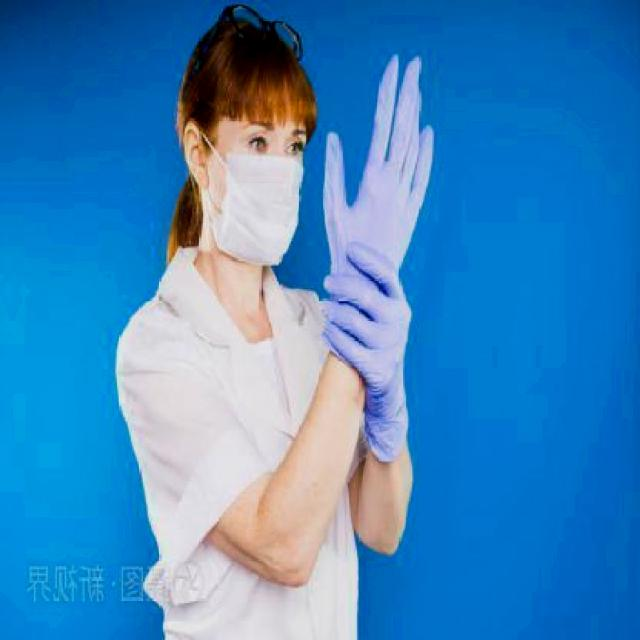face_mask: (212, 117, 306, 268)
glasses: (215, 4, 312, 58)
hand_glove: (320, 54, 434, 272), (320, 240, 414, 446)
head_nohelmet: (192, 5, 332, 124)
person: (107, 4, 465, 640)
